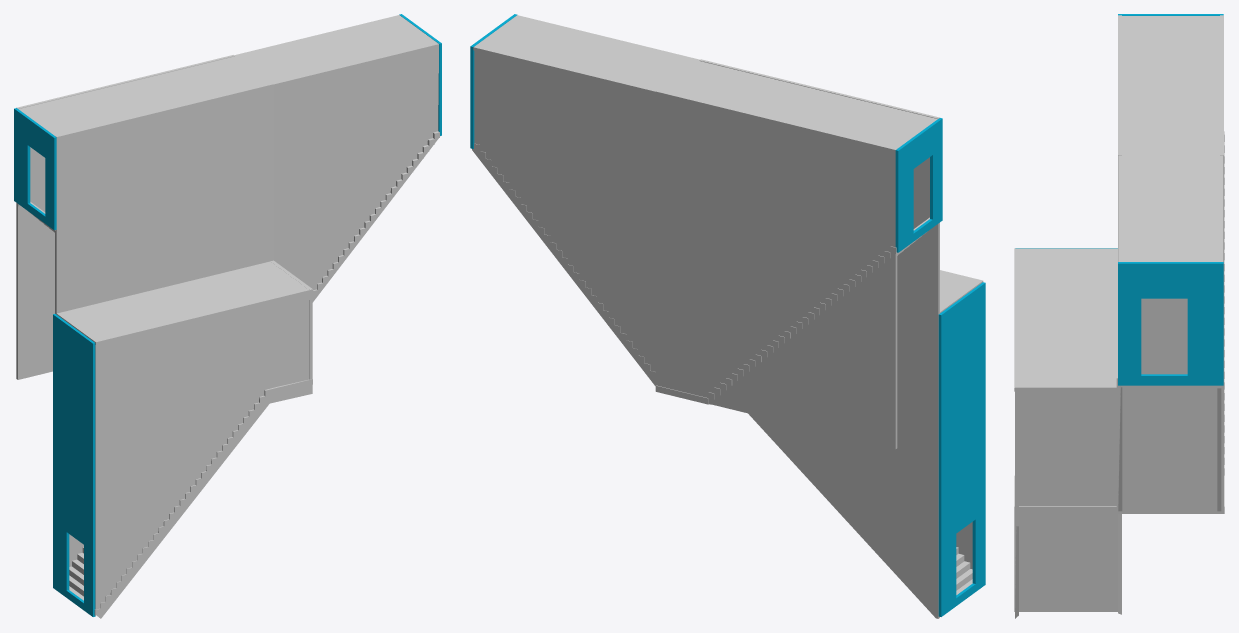
The model's file is lestnitsa.fbx.
3 renders of one model, left to right at view 1: azimuth 30°, elevation 25°; view 2: azimuth 150°, elevation 25°; view 3: azimuth 270°, elevation 25°, orthographic. The views are drawn at different scales.
Parts seen in each view (by area): view 1: Cube.001, Cube.067, Cube.139, Door.001, Cube.071, Cube.070, Cube.140, Cube.068, Door, Cube.069; view 2: Cube.068, Cube.138, Cube.001, Door.001, Cube.070, Cube.140, Door, Cube.071; view 3: Cube.071, Cube.070, Cube.073, Cube.140, Door.002, Cube.072, Cube.034, Cube.068, Cube.001, Cube.067, Cube.138, Cube.139 (+56 smaller).
Boxes of the visible parts, x1,y1,x2,y2 form: Cube.001: (55,83,273,566); Cube.067: (95,292,312,618); Cube.139: (273,44,440,302); Door.001: (53,314,95,616); Cube.071: (55,260,312,344); Cube.070: (19,56,270,135); Cube.140: (234,15,438,84); Cube.068: (16,55,234,379); Door: (14,108,56,230); Cube.069: (18,147,54,235); Cube.068: (656,90,897,449); Cube.138: (472,50,655,385); Cube.001: (699,59,939,618); Door.001: (938,282,985,616); Cube.070: (660,61,937,148); Cube.140: (473,15,699,94); Door: (895,118,942,252); Cube.071: (939,270,983,313); Cube.071: (1014,248,1117,391); Cube.070: (1122,16,1219,154); Cube.073: (1015,385,1116,505); Cube.140: (1118,155,1223,261); Door.002: (1118,262,1223,385); Cube.072: (1141,298,1187,374); Cube.034: (1014,475,1224,513); Cube.068: (1220,15,1223,506); Cube.001: (1118,15,1121,614); Cube.067: (1015,390,1018,618); Cube.138: (1217,385,1221,511); Cube.139: (1118,155,1122,511).
Bounding box in the file's own units: 7297 × 8177 × 2600.
